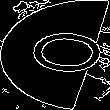O_E: (6, 29, 104, 81)
